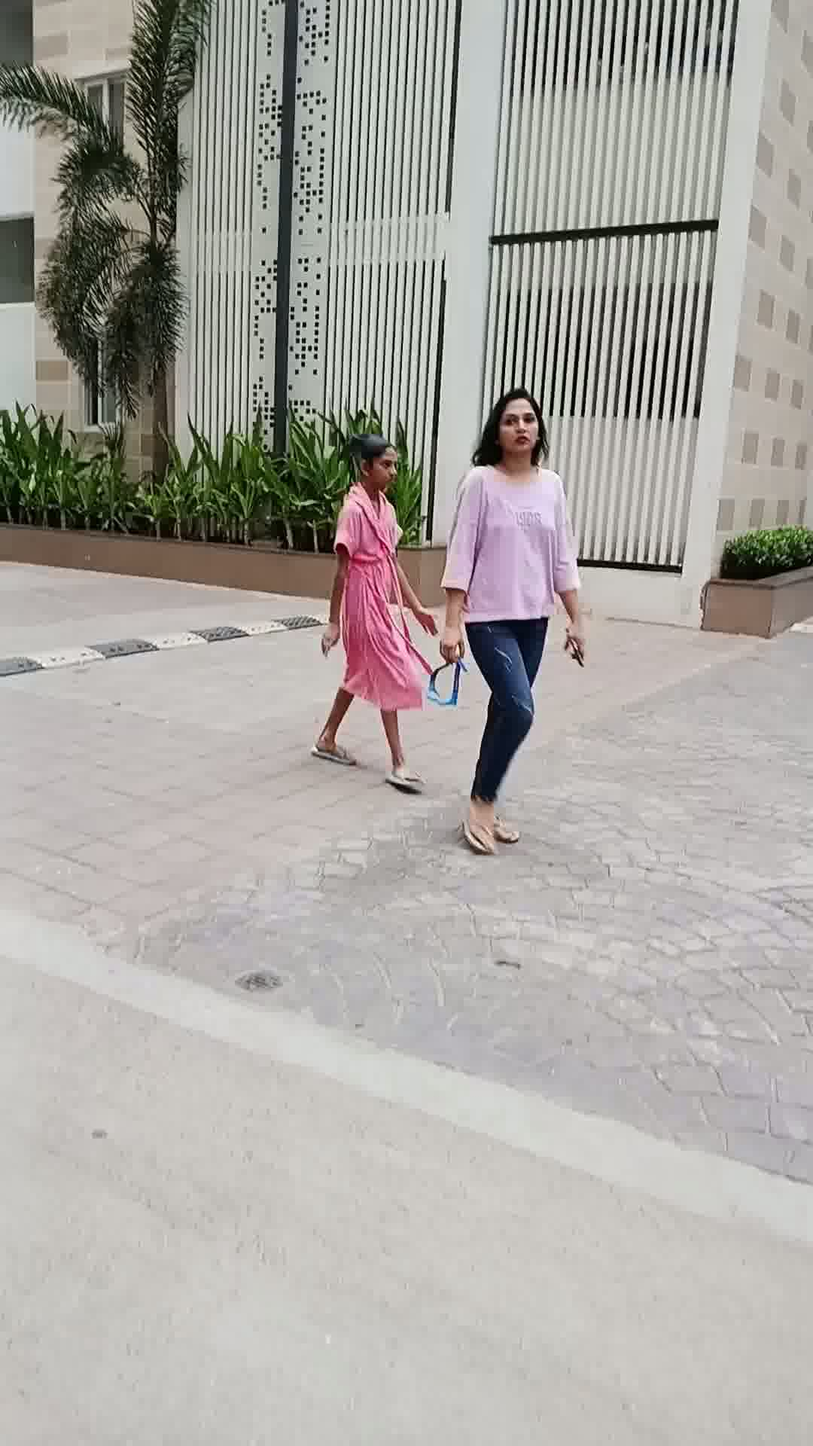person: (452, 370, 592, 874), (304, 413, 455, 817)
tree: (6, 3, 191, 512)
